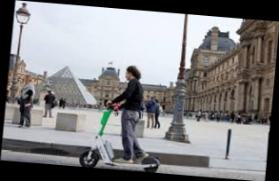nonhelmet: (78, 60, 170, 173)
